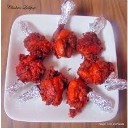chicken_lollipop: (67, 77, 114, 116), (19, 71, 64, 110), (77, 57, 128, 91), (16, 15, 51, 60), (8, 53, 44, 94), (53, 1, 76, 60), (80, 12, 107, 57)
